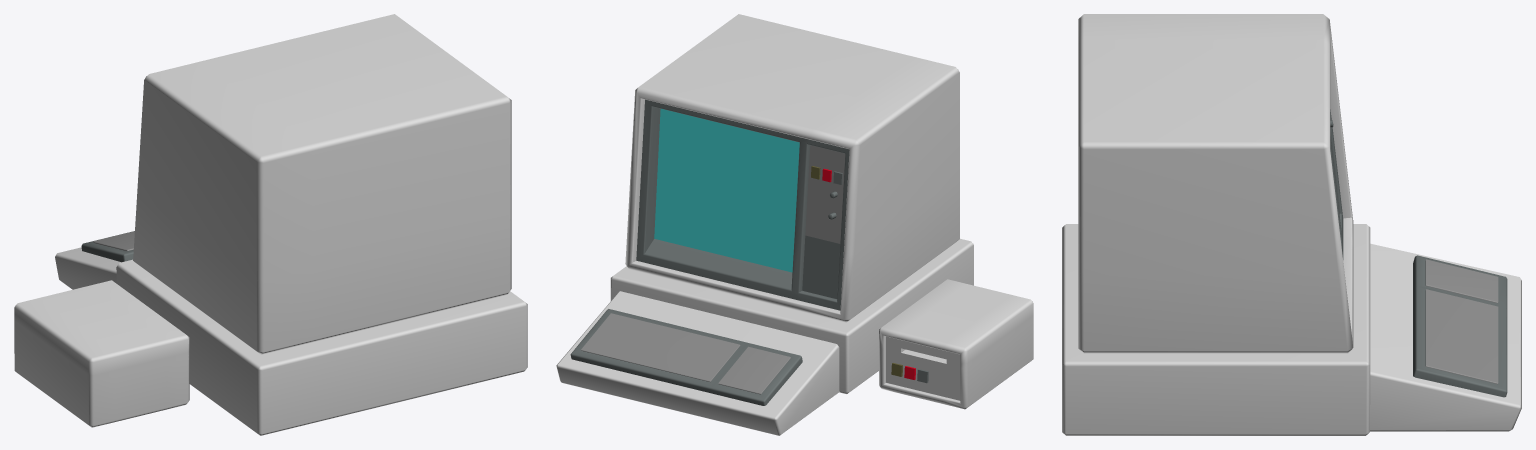
The picture shows the model from 3 angles, left to right: view 1: azimuth 30°, elevation 25°; view 2: azimuth 150°, elevation 25°; view 3: azimuth 270°, elevation 25°; orthographic projection. The views are drawn at different scales.
Visible parts, largest first — view 1: Base1, Base2_; view 2: Base1, Base2_; view 3: Base1.
Boxes of the visible parts, x1=… form: Base1: x1=55, y1=14, x2=527, y2=435; Base2_: x1=14, y1=280, x2=189, y2=427; Base1: x1=556, y1=14, x2=973, y2=435; Base2_: x1=879, y1=279, x2=1033, y2=409; Base1: x1=1062, y1=14, x2=1521, y2=435.
Bounding box in the file's own units: 1.81 × 1.21 × 1.74.
